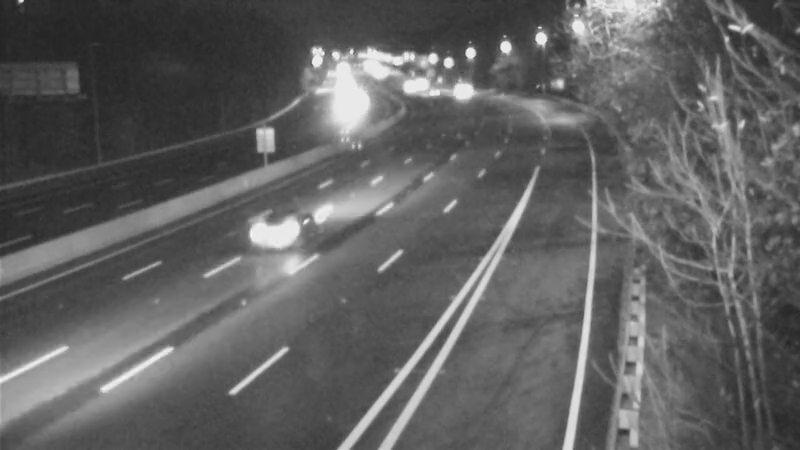vehicle: (238, 198, 318, 278), (405, 68, 455, 118), (435, 65, 485, 115)
